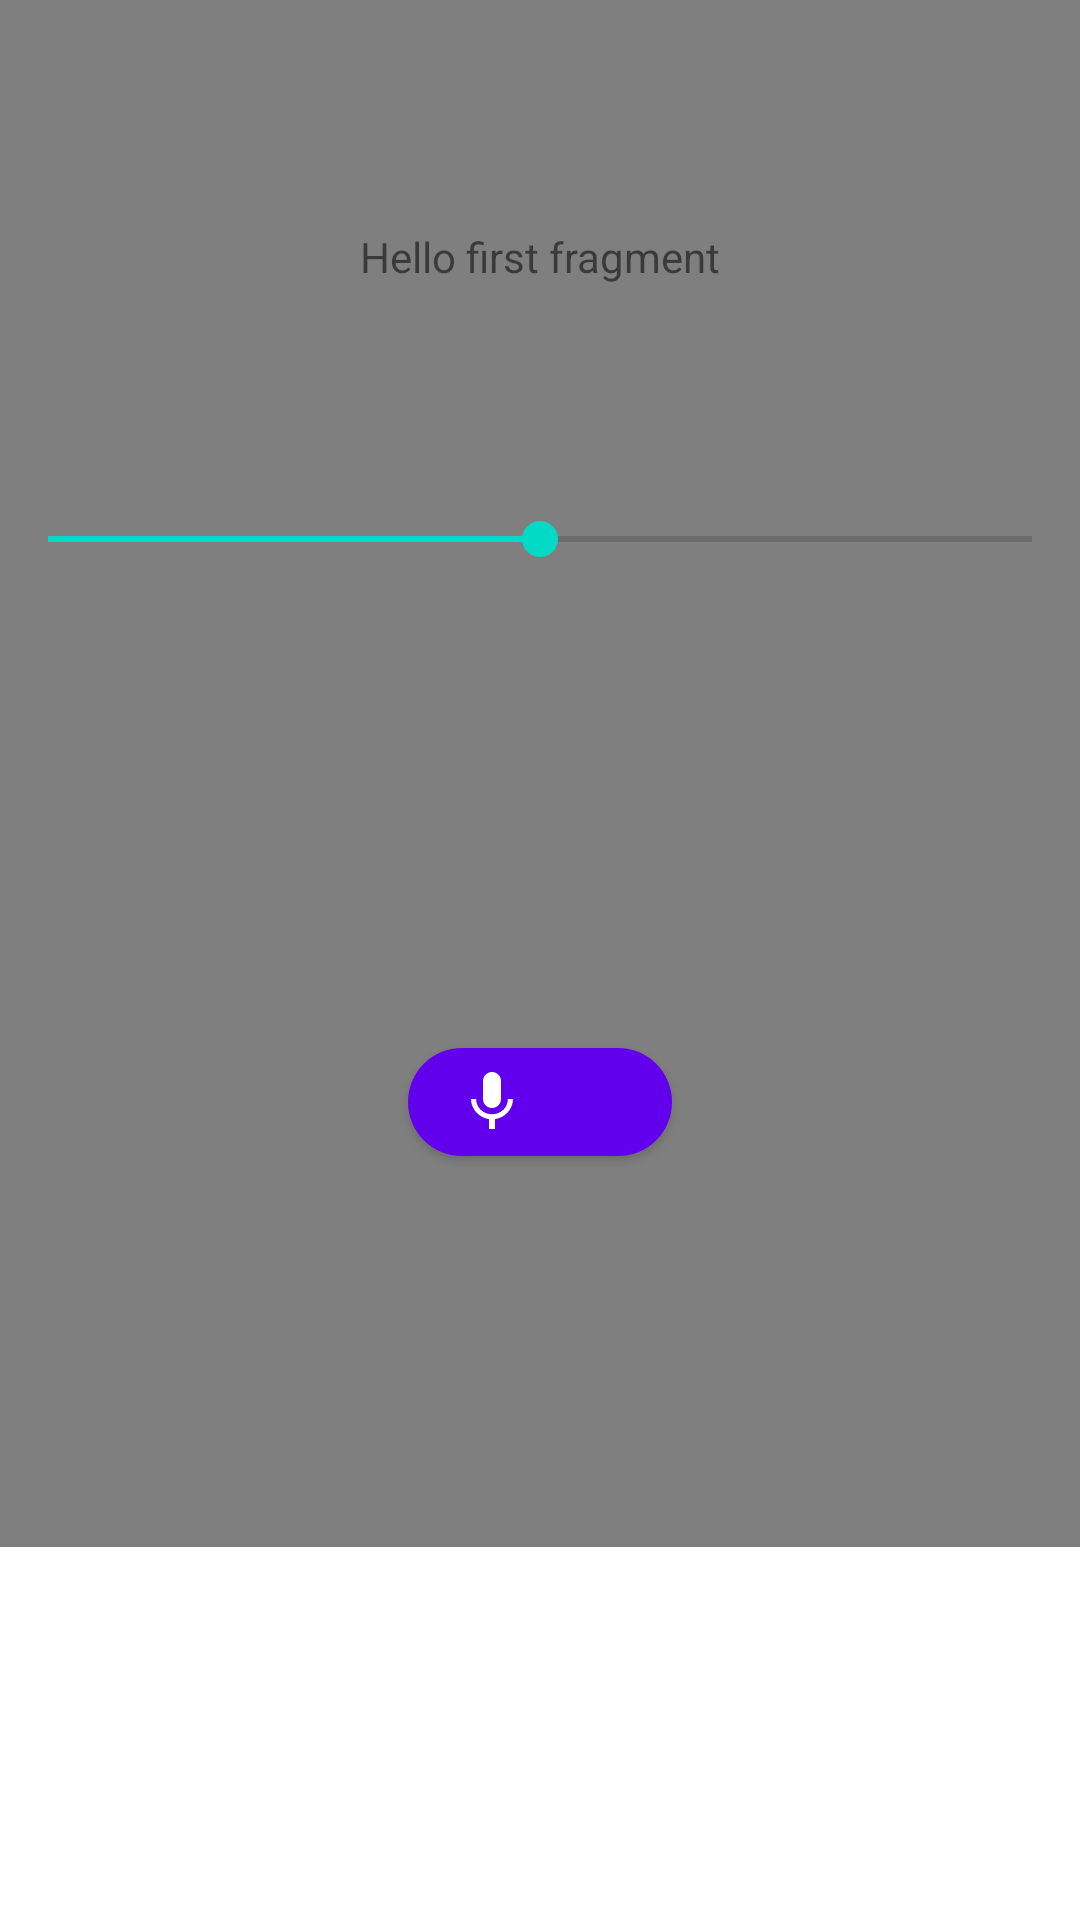

Screen size 1080w x 1920h. Icon name, then its center in pixels as [x,y]:
mic toggle: [540,1102]
